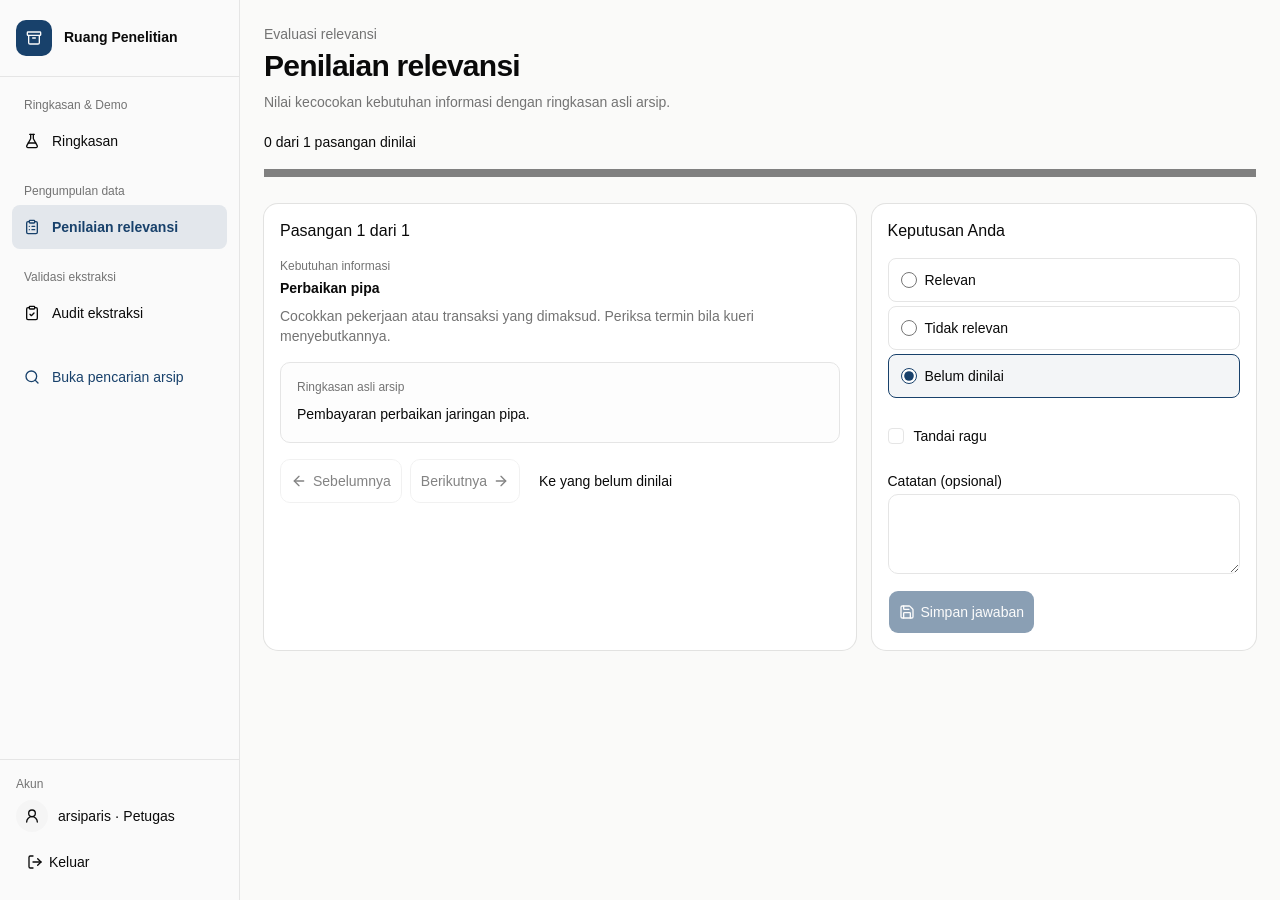
menampilkan kebutuhan asli, menyimpan ragu parsial, lalu memulihkan jawaban akun saat reload
Later steps or results of the test are not shown.
Check: the text "Perbaikan pipa" is shown, box left=280, top=280, right=380, bottom=296
Check: the text "Ruang Penelitian" is shown, box left=64, top=28, right=178, bottom=48
Step 1. Click the checkbox named "Tandai ragu" → [896, 436], box left=888, top=428, right=904, bottom=444
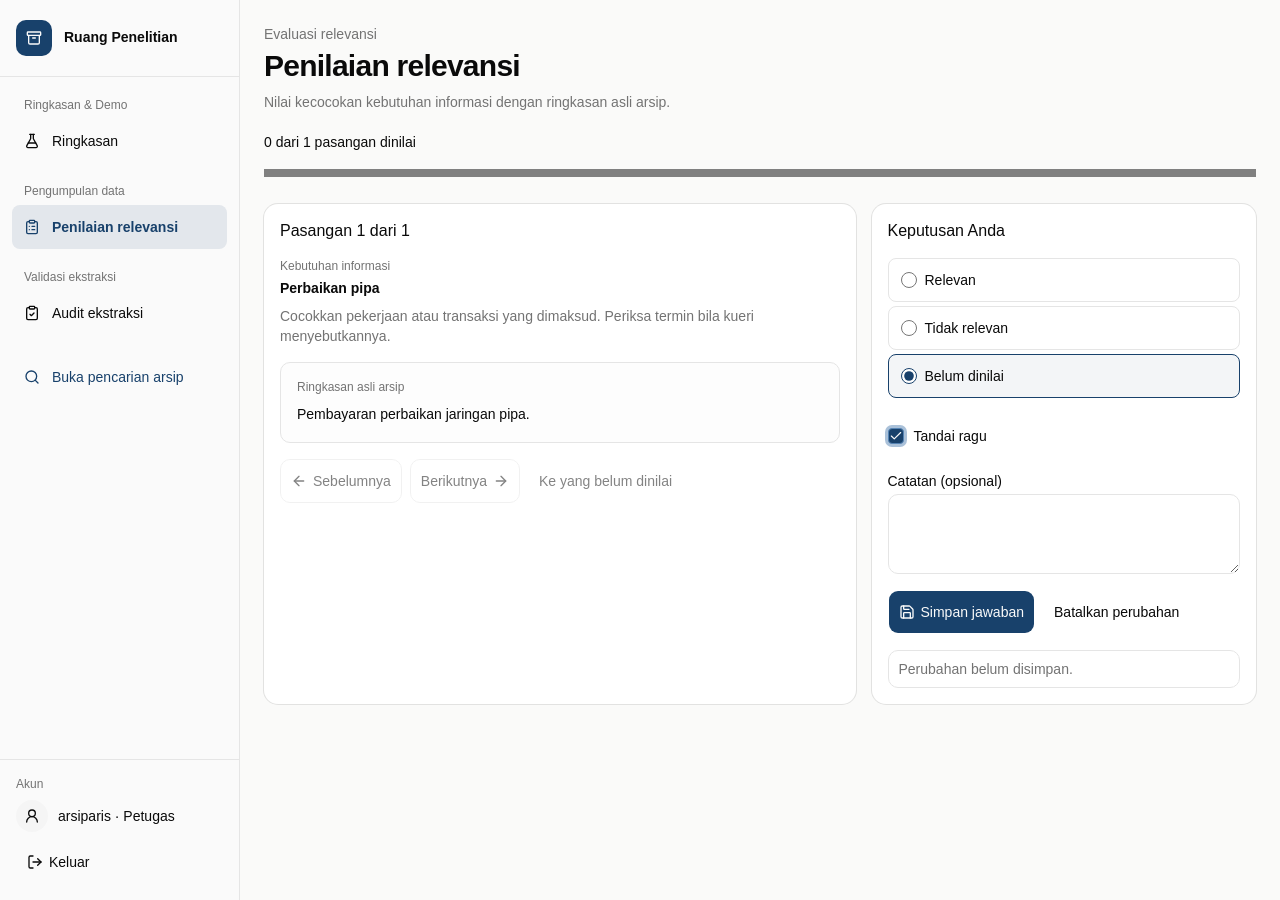
Step 2. Type "Perlu periksa tahun" into the text box labelled "Catatan (opsional)" → [1064, 534], box left=888, top=494, right=1240, bottom=574
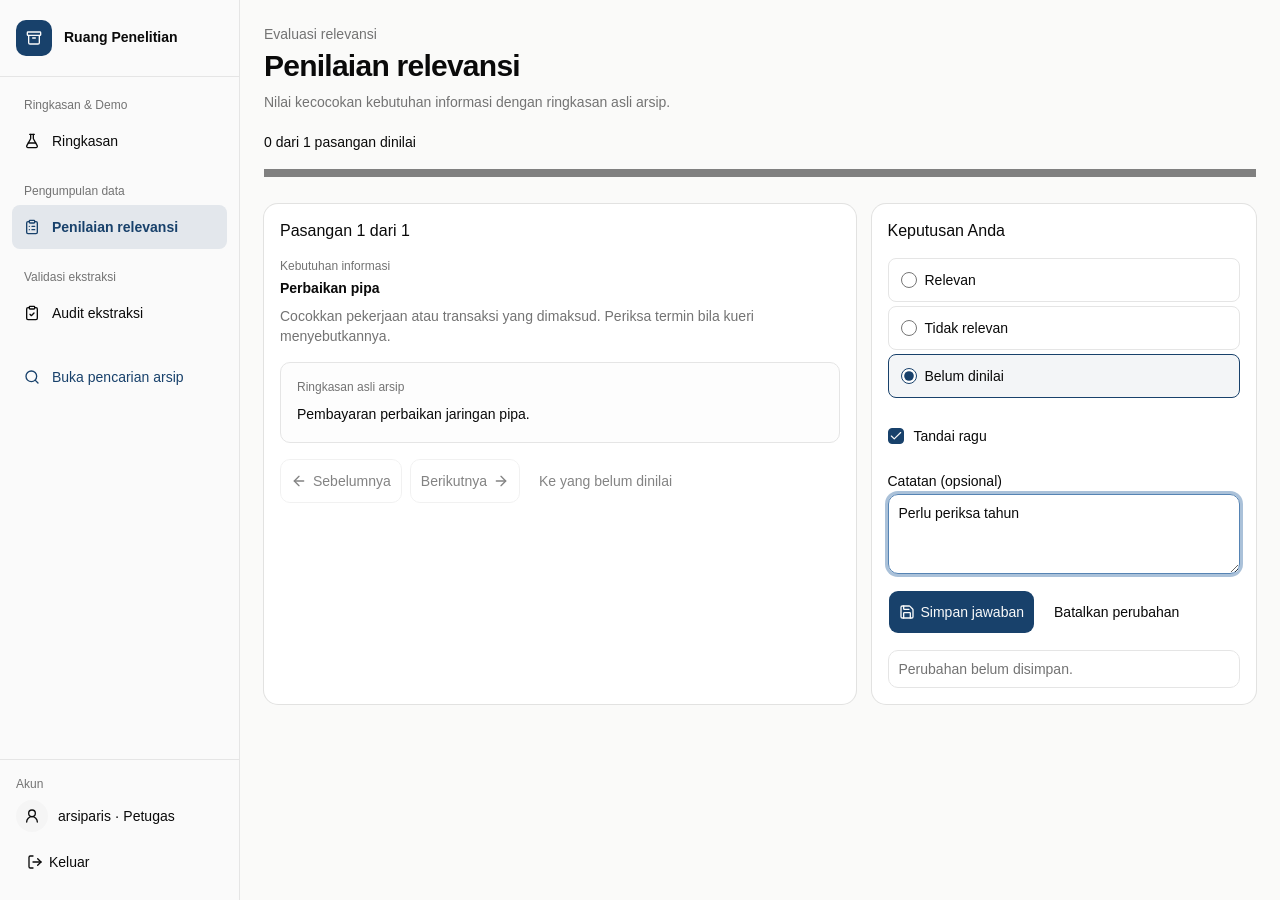
Step 3. Click the button "Simpan jawaban" → [961, 612], box left=888, top=590, right=1035, bottom=634
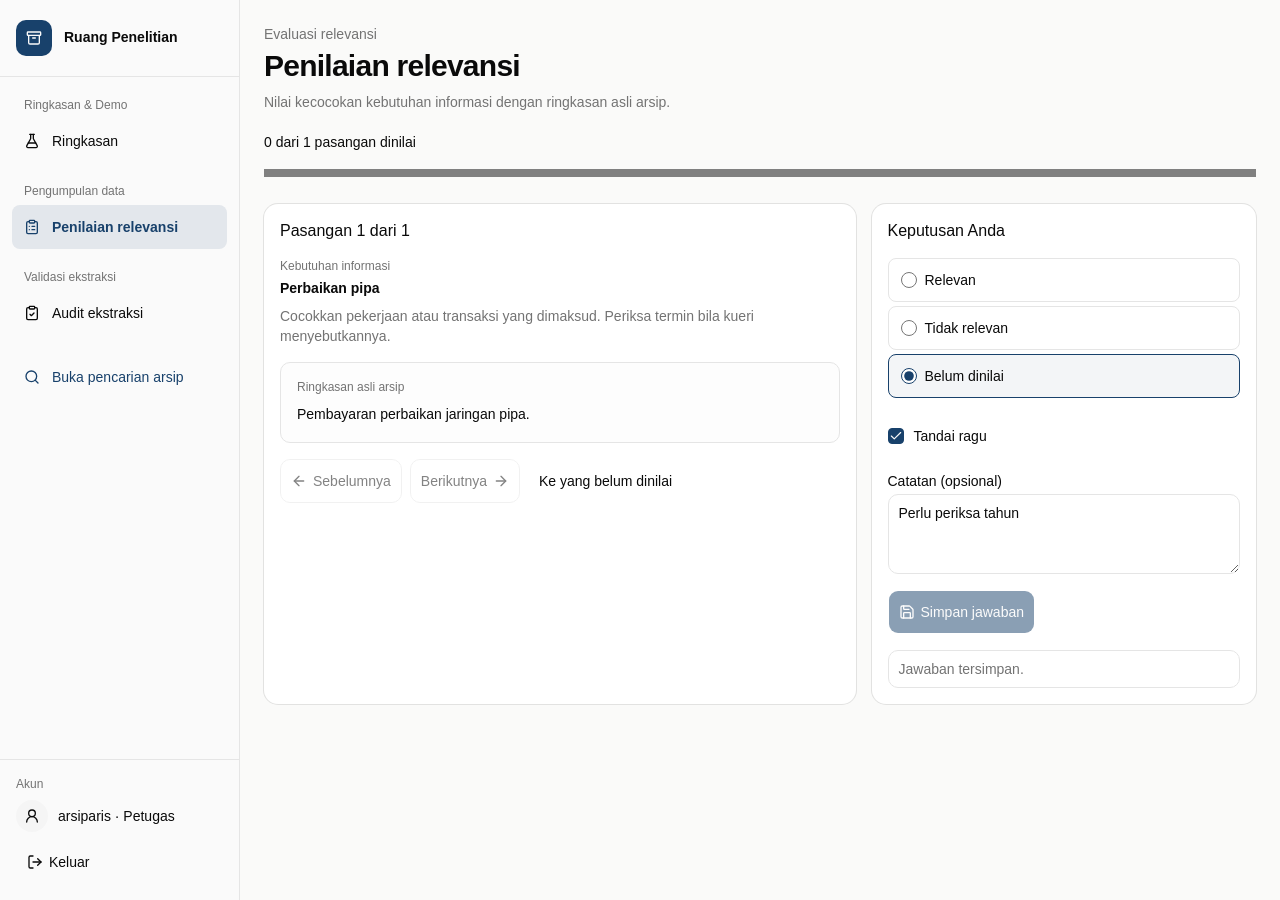
Check: the text "0 dari 1 pasangan dinilai" is shown, box left=264, top=134, right=416, bottom=150
Check: the text "Jawaban tersimpan." is shown, box left=898, top=661, right=1024, bottom=677
